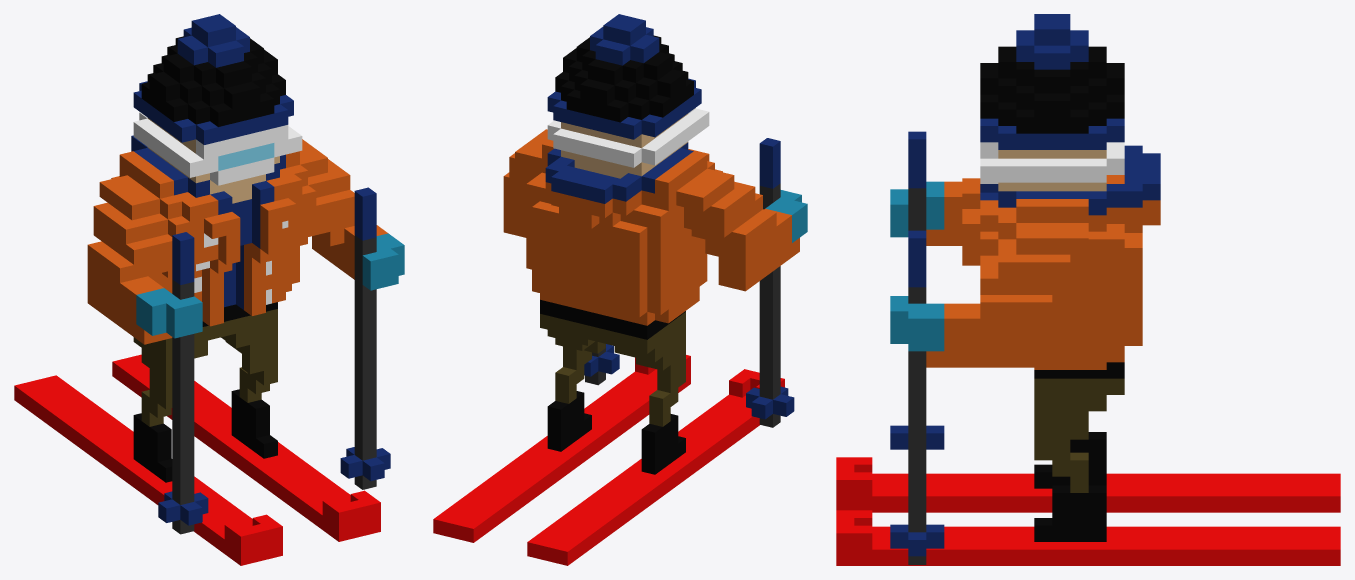
Rendered from Skieur_Frame_03.obj.
3 renders of one model, left to right at view 1: azimuth 30°, elevation 25°; view 2: azimuth 150°, elevation 25°; view 3: azimuth 270°, elevation 25°, orthographic. The views are drawn at different scales.
Size of the model in its own units: 18 by 31 by 28.
1 material, 1 textured.
